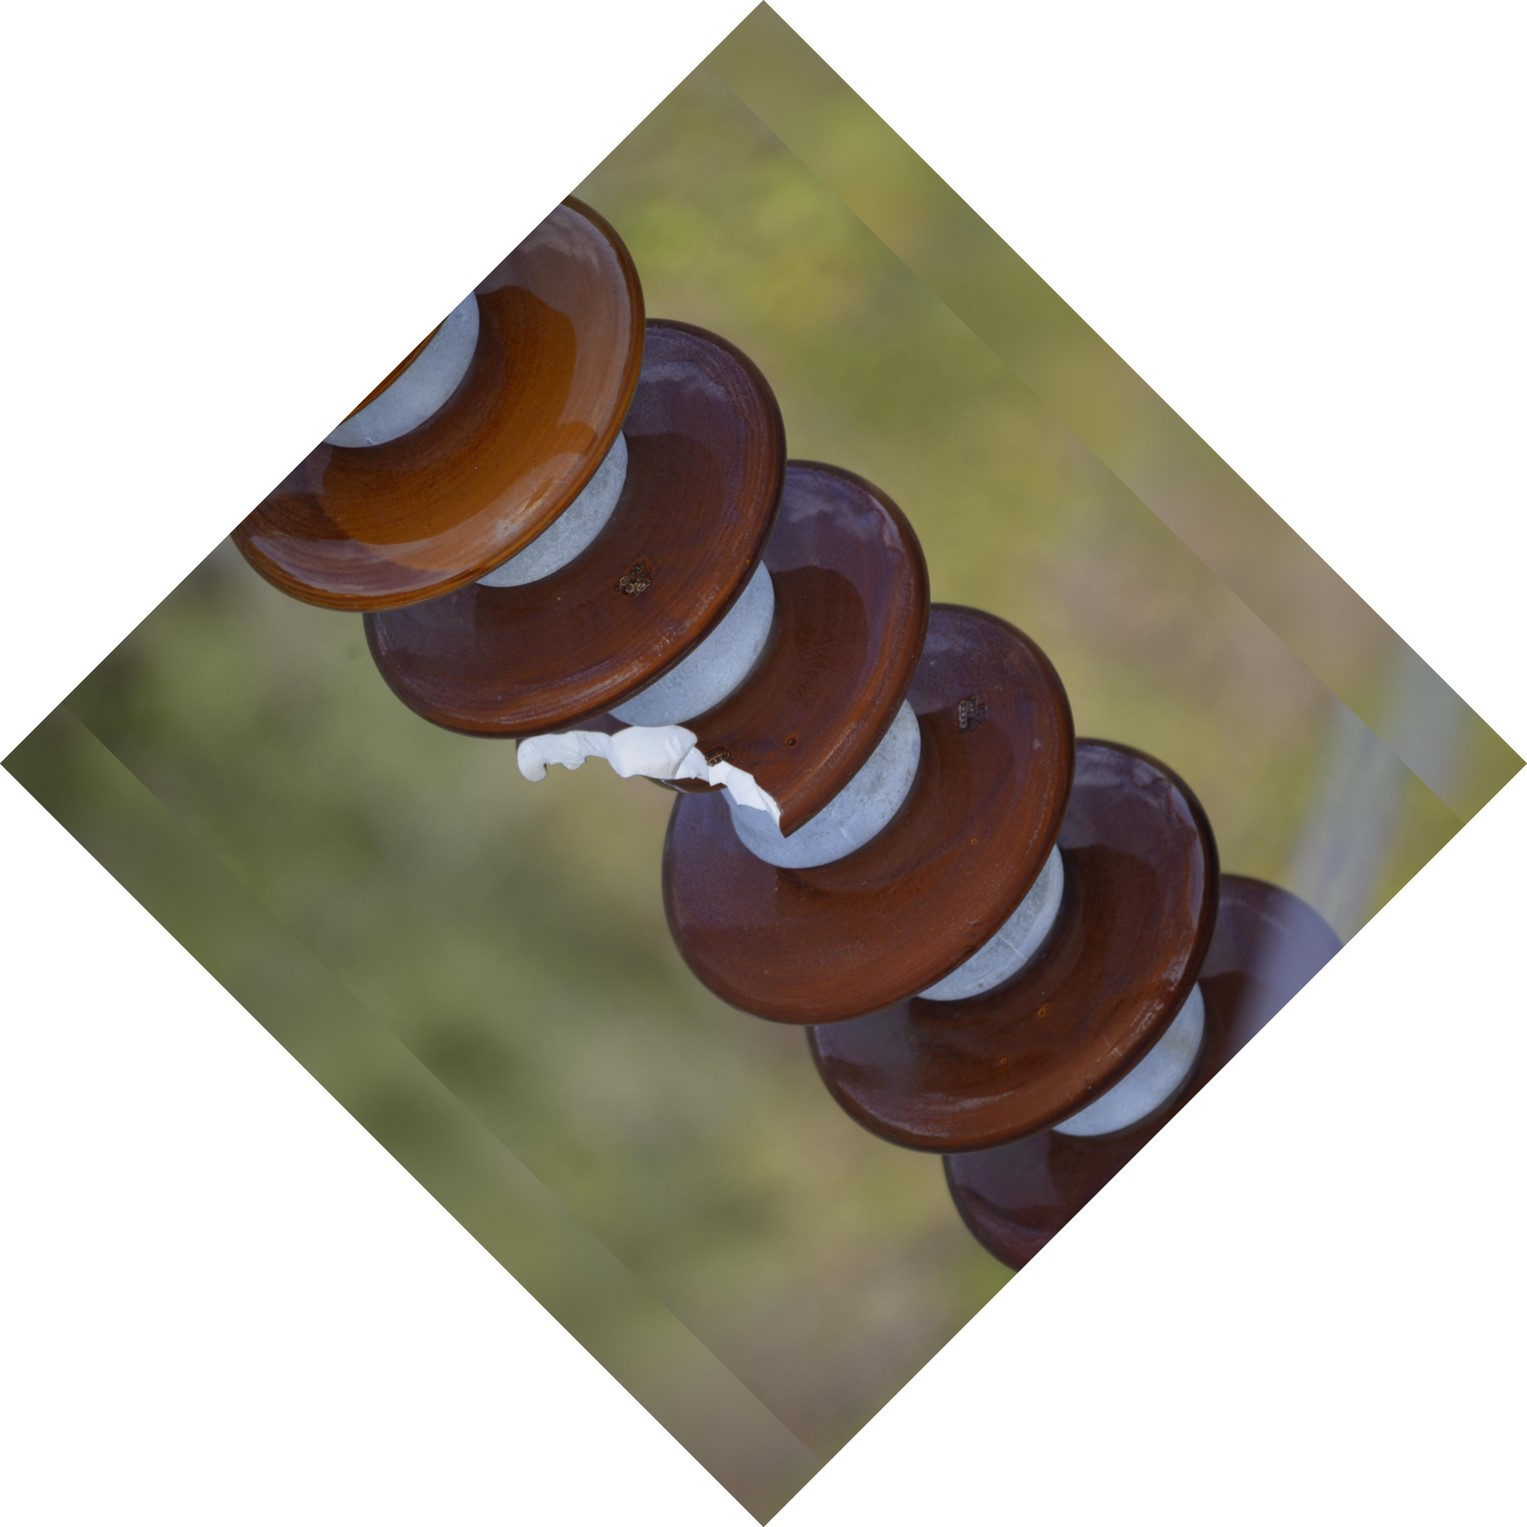insulator breakage: (489, 433, 947, 847)
